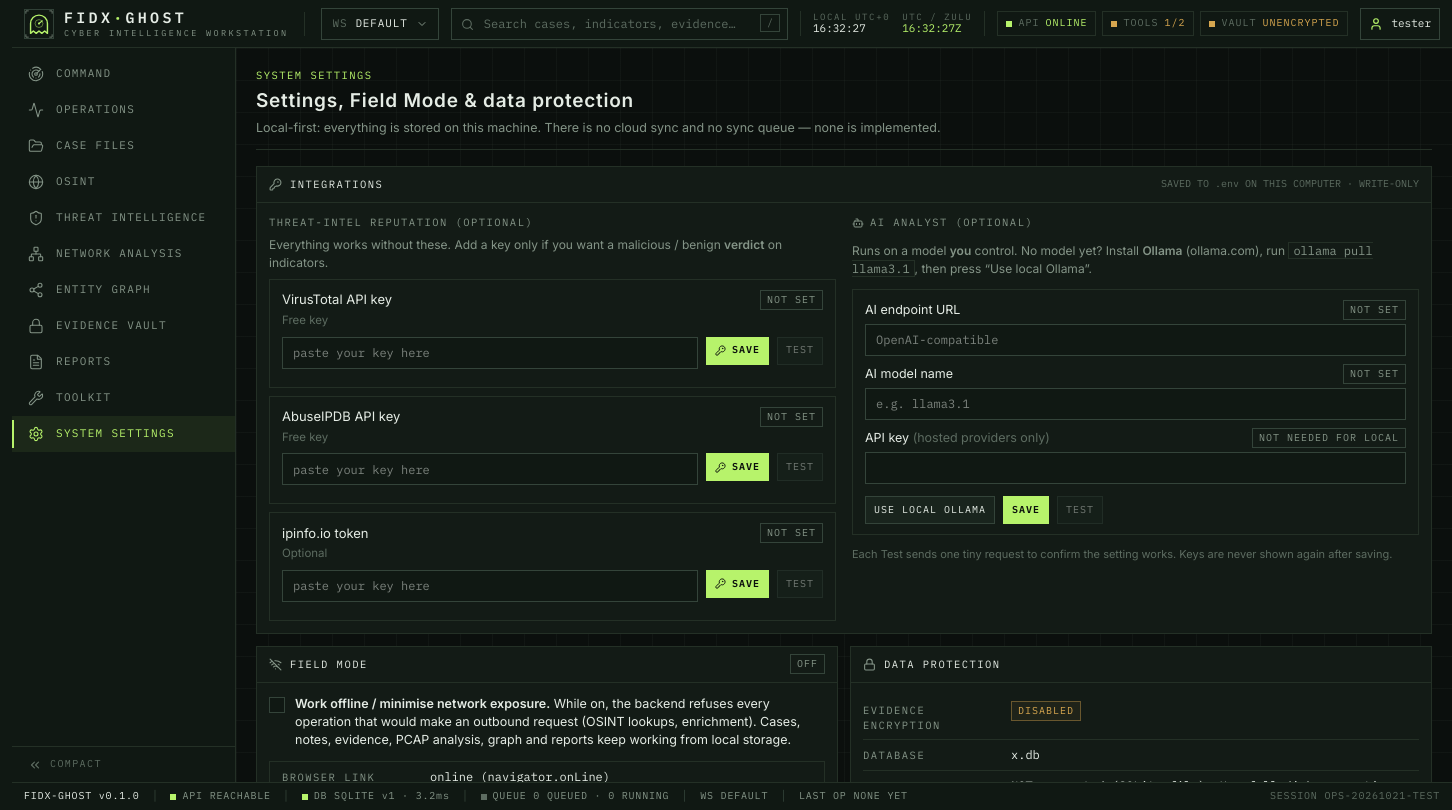
Test: Integrations (Settings) › surfaces a validation error from the backend instead of pretending it saved
Type "short" into the password field labelled "VirusTotal API key".
click(490, 353); type("short")  # box [282,337,698,369]
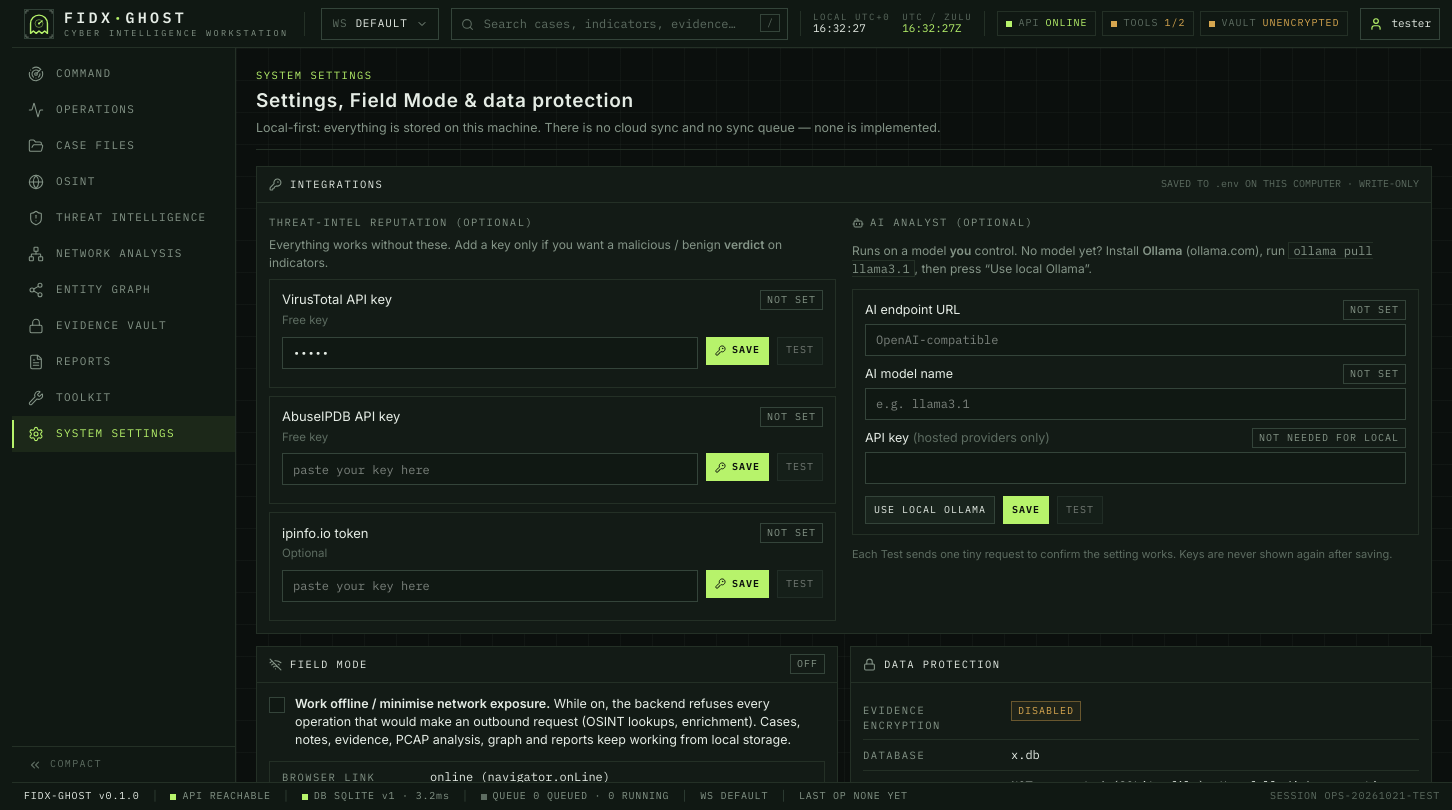
Click the 1st button "Save".
click(738, 351)  # box [706,337,769,365]
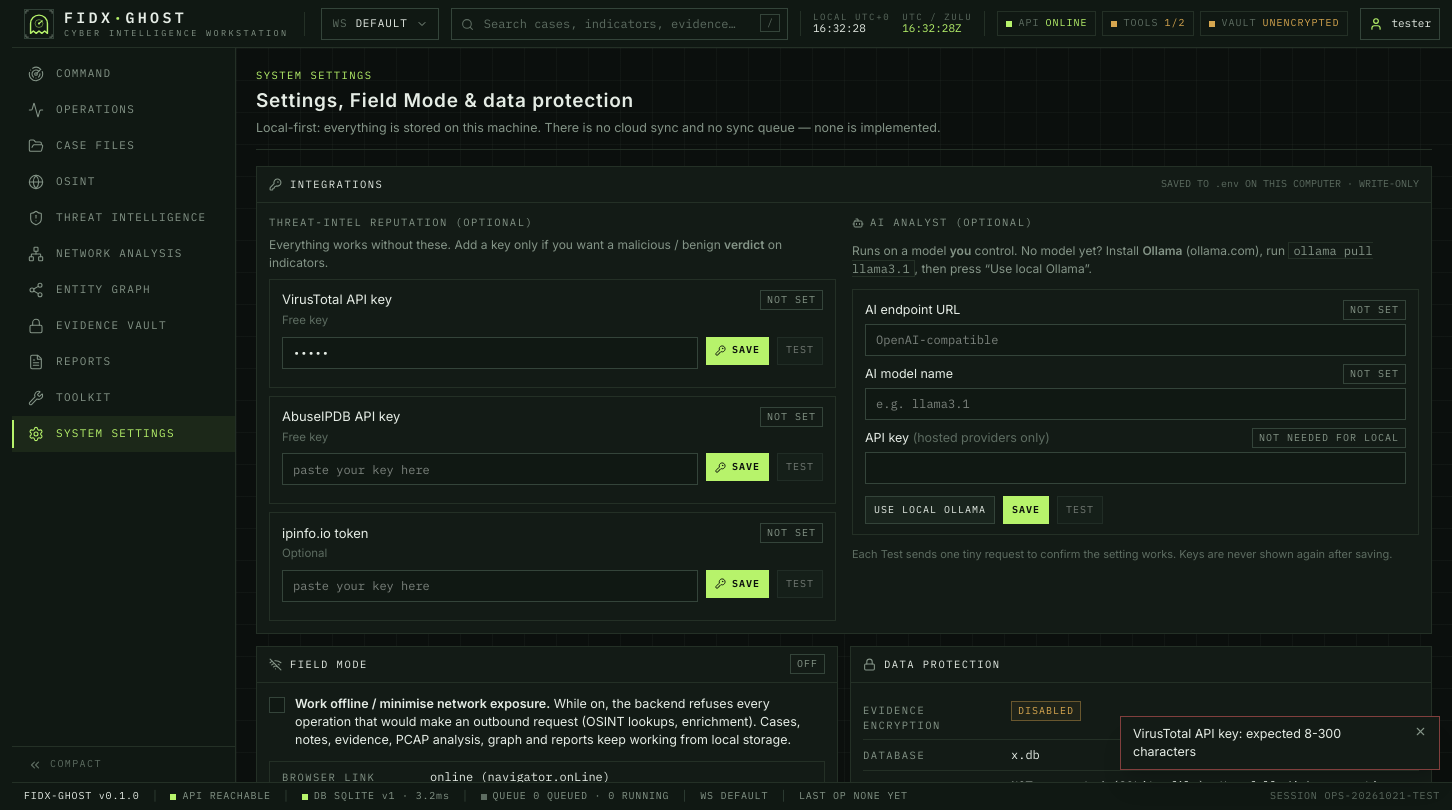
Check: the text "VirusTotal API key: expected 8-300 characters" is shown, box [1133,726,1341,759]
